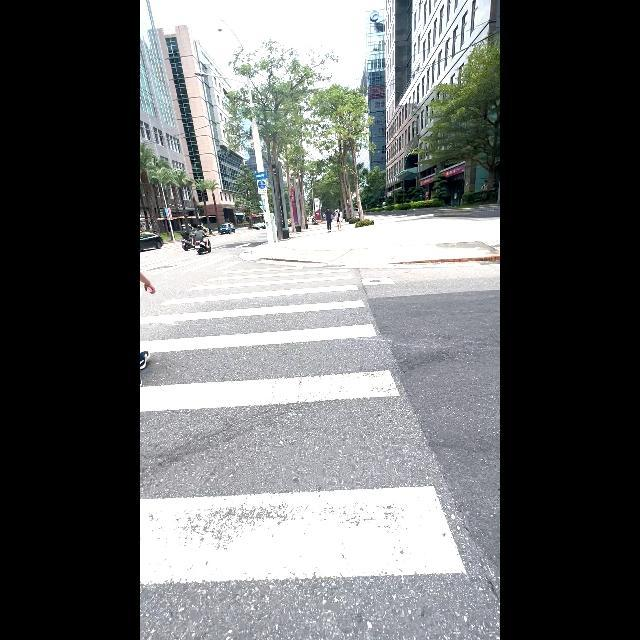sidewalk: (142, 264, 466, 591)
